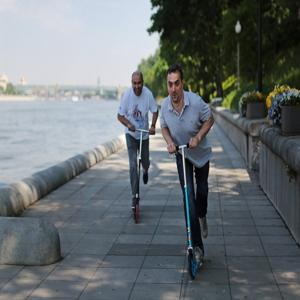human on a scooter: (159, 64, 216, 280), (116, 70, 159, 225)
